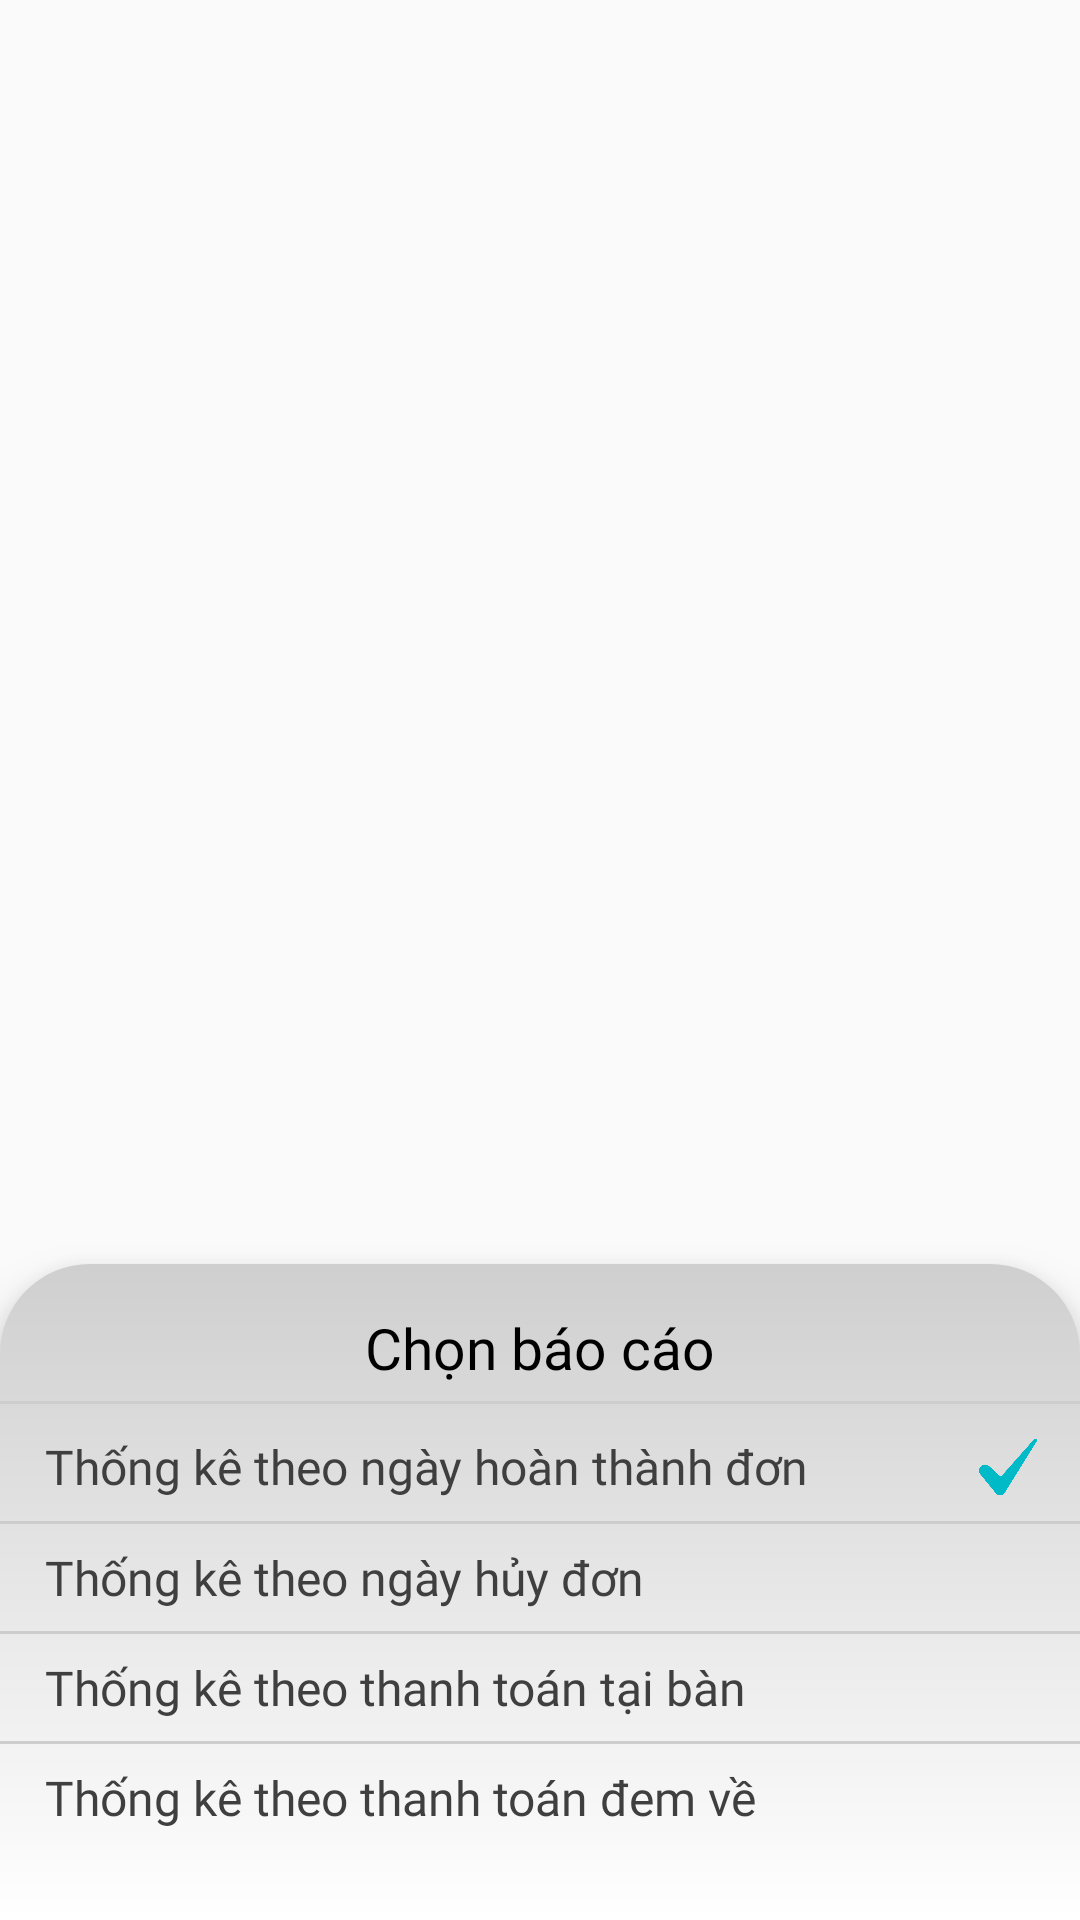

Icon bounding boxes for this 1080 × 1920 phone screenshot, format (x1, y1, x2, y2):
check type: (979, 1439, 1037, 1495)
